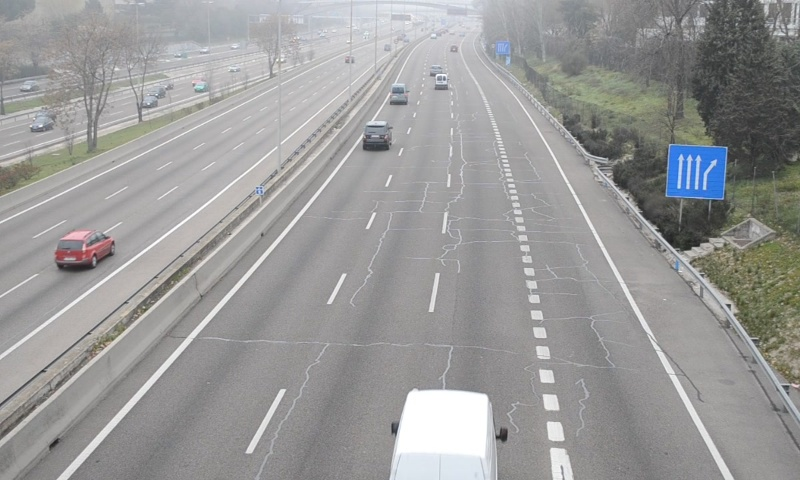car: (363, 120, 391, 148)
van: (389, 388, 498, 480), (389, 82, 408, 105)
